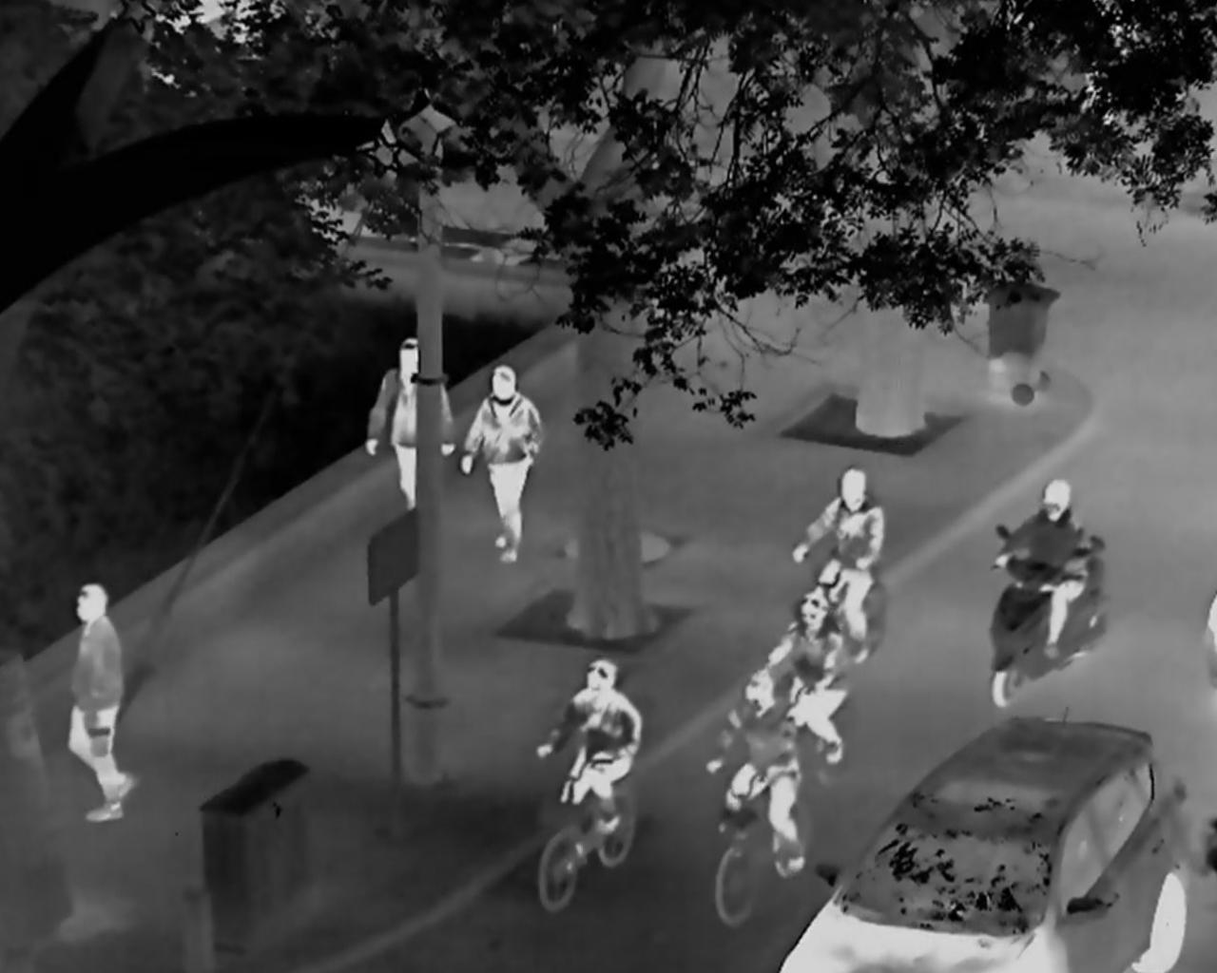person: (704, 668, 807, 873), (537, 657, 644, 837), (66, 578, 141, 826), (790, 467, 884, 664), (993, 478, 1089, 659), (460, 363, 544, 565), (366, 336, 459, 511), (763, 593, 856, 767)
